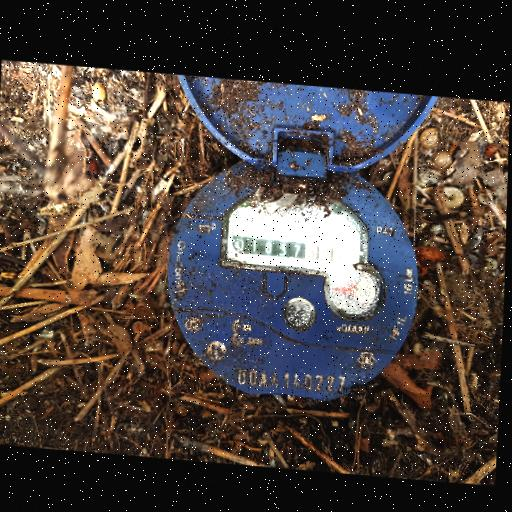0: (234, 237, 247, 254)
1: (246, 237, 259, 255)
3: (273, 239, 290, 258), (304, 242, 317, 261)
7: (289, 241, 306, 260), (332, 244, 347, 263)
8: (316, 244, 333, 263), (259, 237, 274, 256)
border_water_meter_number: (229, 231, 354, 264)
